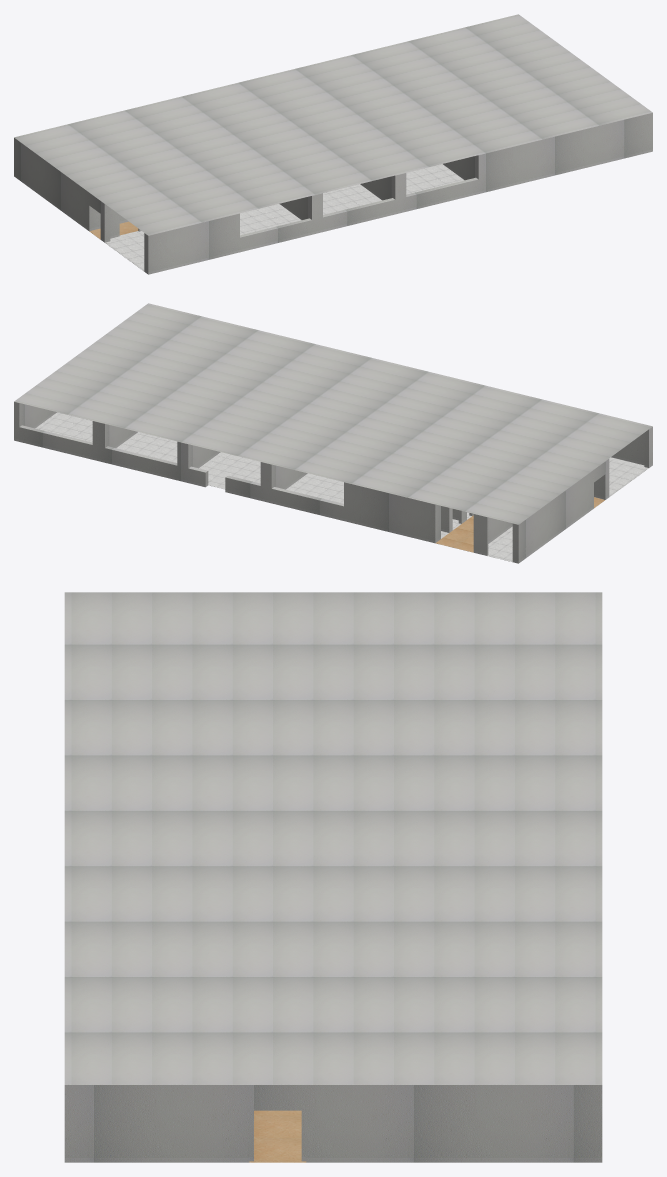
File: walls_floor_roof_UAMT.dae
The picture shows the model from 3 angles, top to bottom: view 1: azimuth 30°, elevation 25°; view 2: azimuth 150°, elevation 25°; view 3: azimuth 270°, elevation 25°; orthographic projection. The views are drawn at different scales.
Visible parts, largest first — view 1: Plane, walls_UAMT; view 2: Plane, walls_UAMT; view 3: Plane, walls_UAMT.
Boxes of the visible parts, box(x1,y1,x2,y2) form: Plane: box(14, 14, 652, 235); walls_UAMT: box(14, 112, 652, 274); Plane: box(14, 303, 652, 524); walls_UAMT: box(14, 401, 652, 563); Plane: box(64, 592, 602, 1084); walls_UAMT: box(64, 1084, 602, 1162).
Size of the model in its own units: 43.73 by 20.17 by 3.23.
